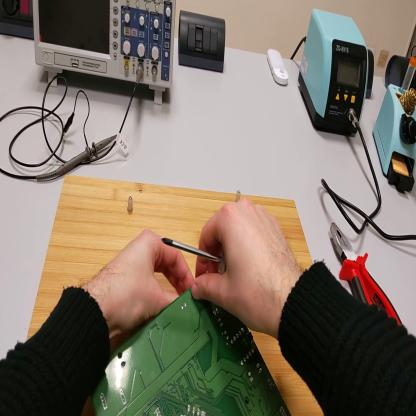hand: (192, 197, 296, 338), (93, 231, 195, 333)
low voltage board: (93, 288, 291, 416)
oscilloscope: (34, 2, 177, 105)
oscilloscope probe tip: (34, 134, 118, 182)
pliers: (331, 222, 404, 326)
screwdriver-: (160, 238, 227, 274)
socket: (1, 3, 34, 41), (388, 53, 416, 88), (366, 49, 377, 101)
welder base: (373, 56, 416, 196)
welder station: (299, 7, 369, 135)
working area: (33, 177, 324, 414)
